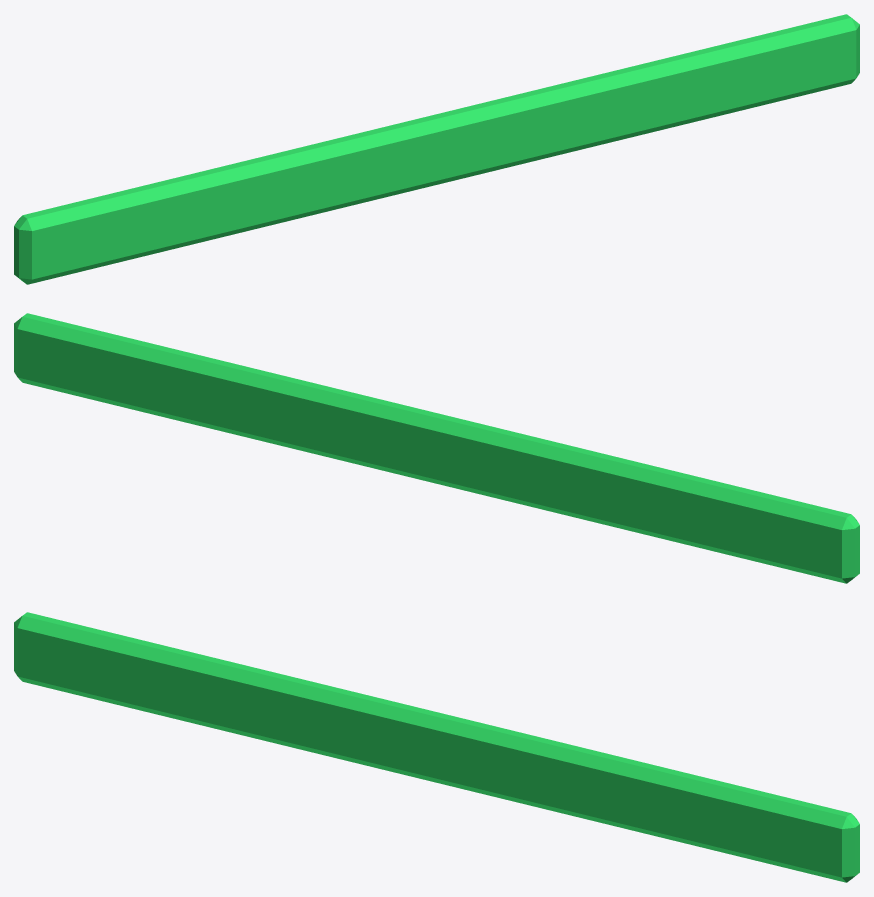
File: led_strip_lens.glb
The picture shows the model from 3 angles, top to bottom: view 1: azimuth 30°, elevation 25°; view 2: azimuth 150°, elevation 25°; view 3: azimuth 330°, elevation 25°; orthographic projection.
Parts seen in each view (by area): view 1: LedStripLens; view 2: LedStripLens; view 3: LedStripLens.
Boxes of the visible parts, x1=… form: LedStripLens: x1=14, y1=14, x2=859, y2=284; LedStripLens: x1=14, y1=313, x2=859, y2=583; LedStripLens: x1=14, y1=612, x2=859, y2=882.
Bounding box in the file's own units: 0.04 × 0.003 × 0.0012.
